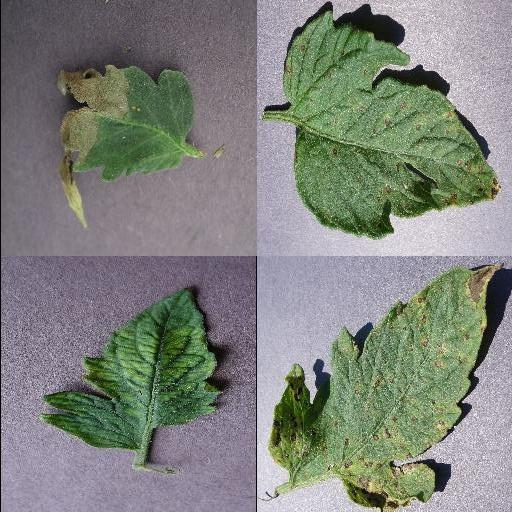Late Blight: (52, 63, 194, 227)
Mosaic Virus: (39, 285, 223, 451)
Septoria: (270, 262, 502, 512), (282, 9, 500, 239)
